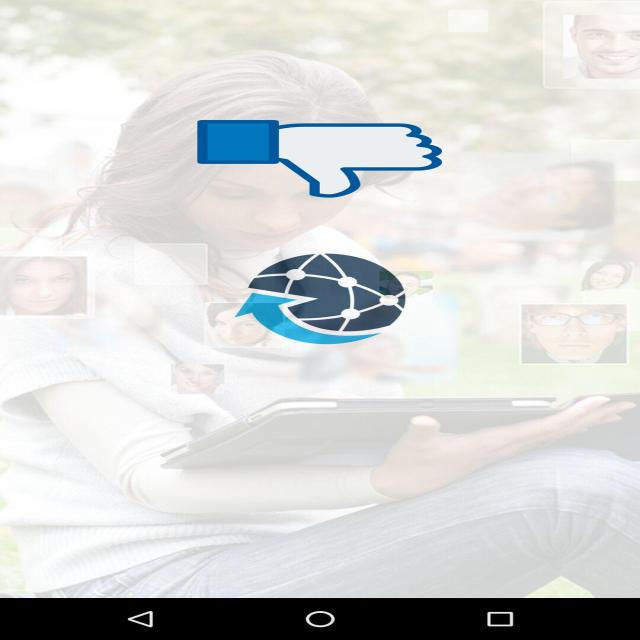obstruction: (197, 119, 442, 200)
